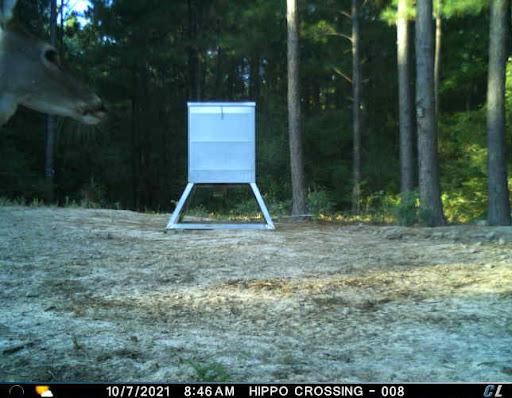Deer: (0, 0, 117, 134)
